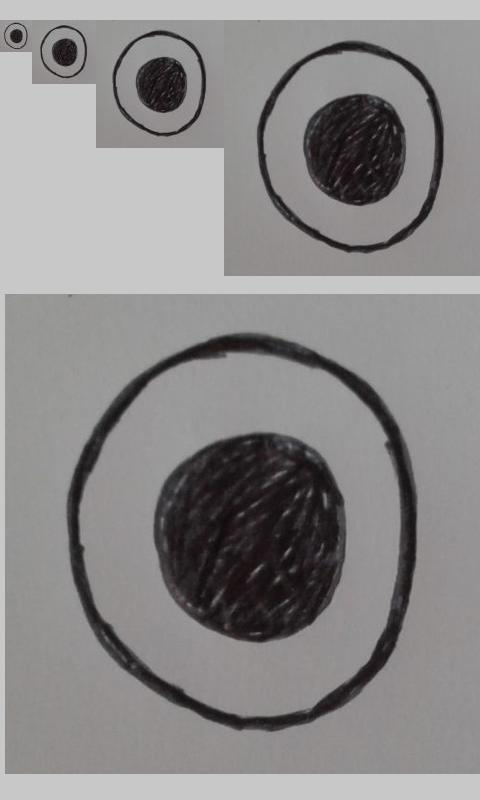radio_button: (66, 331, 420, 733), (257, 40, 446, 256), (111, 29, 207, 137), (39, 24, 88, 79), (3, 22, 28, 50)
